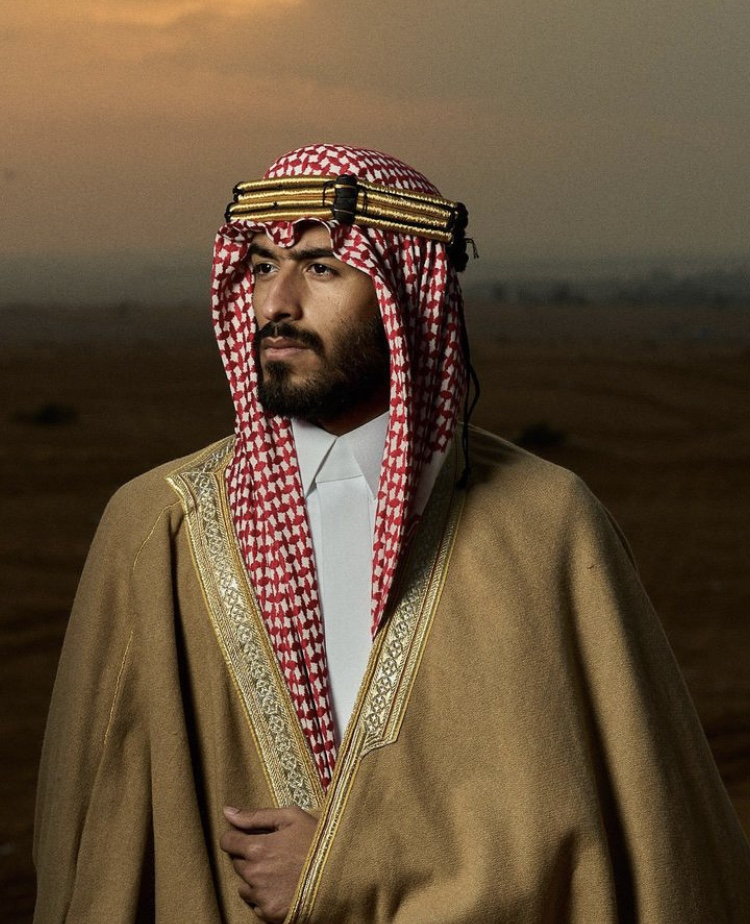Saudi_Founding_Day: (29, 140, 750, 923)
